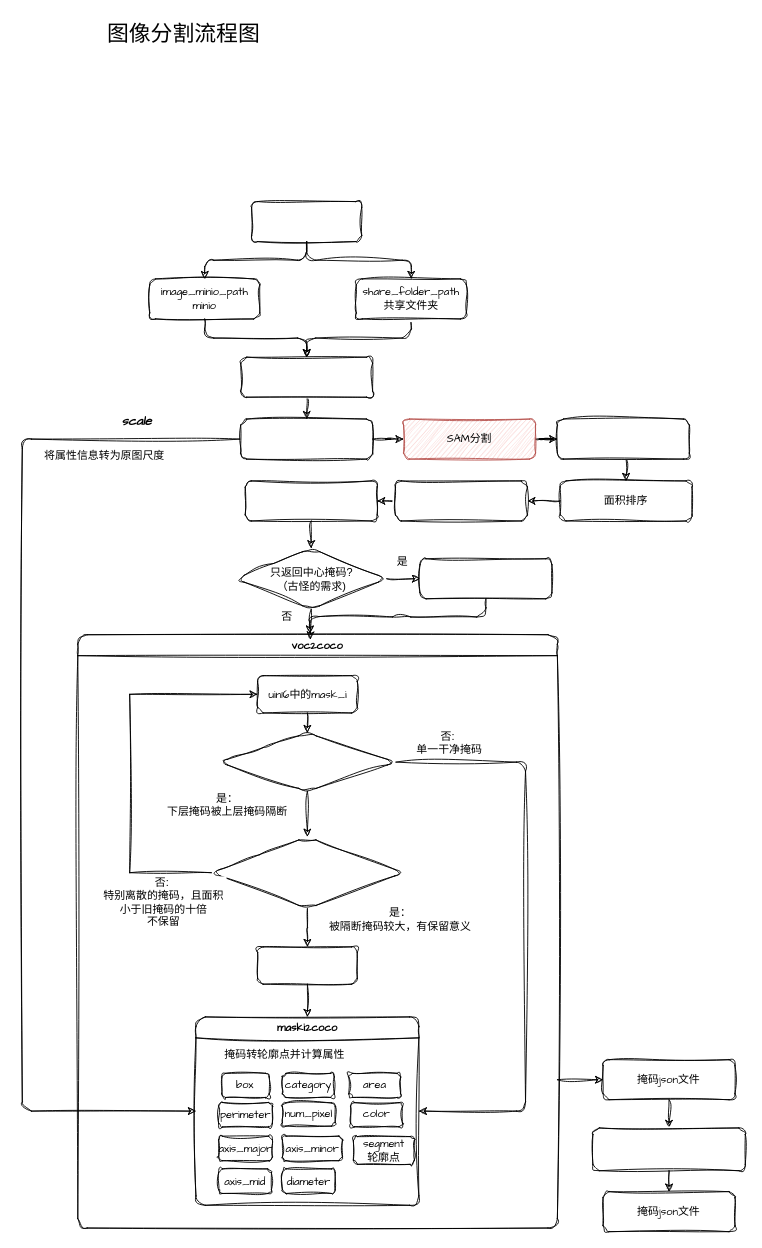
Image size: 762x1248. Some labels were removed from this diagram. Each missing label, with the centre of its shape:
"img_info 获取pixelsize和imgbar" belongs at pixel 306 376.
"inference" belongs at pixel 306 221.
"judge_background 判断掩码是否为背景(按面积)" belongs at pixel 668 1149.
"keep_center_mask" belongs at pixel 485 578.
"keep_max_area_mask 单一掩码保留面积最大" belongs at pixel 460 500.
"resize<1024" belongs at pixel 306 438.
"原始掩码" belongs at pixel 622 438.
"原始掩码面积/新掩码面积<10?" belongs at pixel 306 872.
"外轮廓中面积最大的作为被遮盖掩码" belongs at pixel 307 965.
"生成uint16掩码和 原始掩码信息字典" belongs at pixel 310 500.
"连通域个数>2?" belongs at pixel 307 761.
